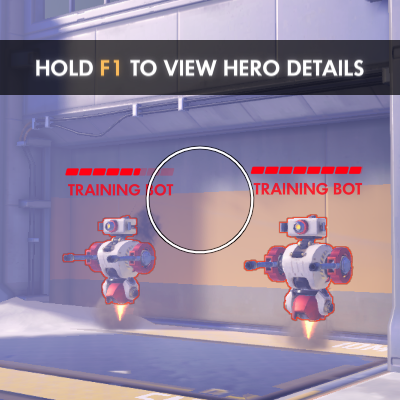hpbar: (250, 166, 363, 174), (65, 168, 174, 176)
